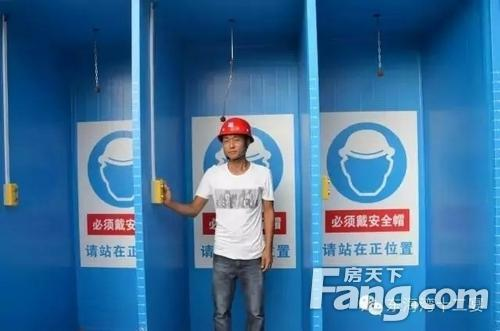helmet: (219, 114, 255, 142)
no-vest: (191, 163, 283, 274)
person: (186, 109, 281, 328)
